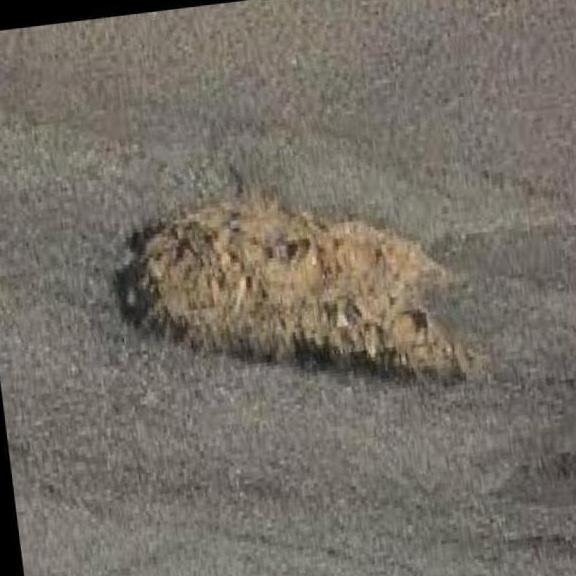pothole: (97, 173, 488, 410)
